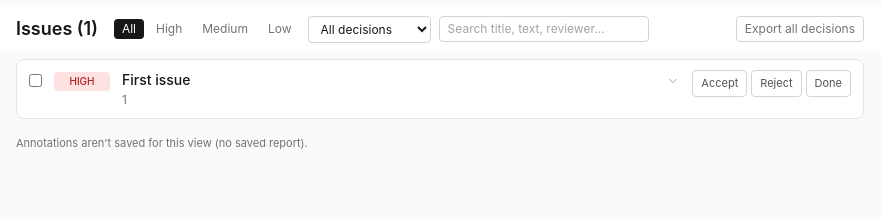
Test: IssuesTable annotation lifecycle › accurately surfaces a decision-export save failure
The image size is (881, 217).
Step 1. Click the button with aria-label "accept issue: First issue" → (720, 83), box [692,70,747,96]
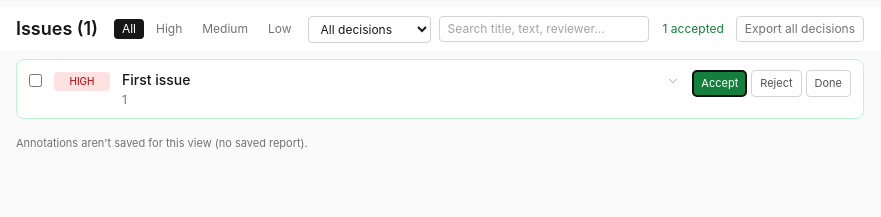
Step 2. Click the button "Export all decisions" → (800, 29), box [736,16,864,42]
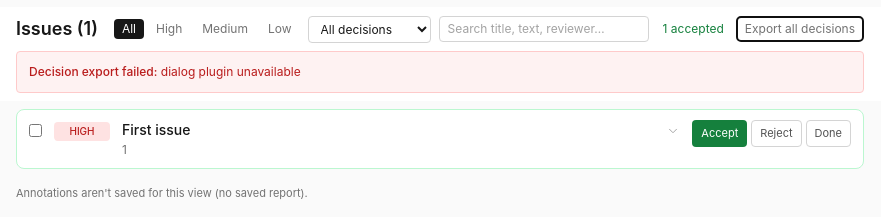
Expected: the message reads "Decision export failed: dialog plugin unavailable", [16,51,864,93]
